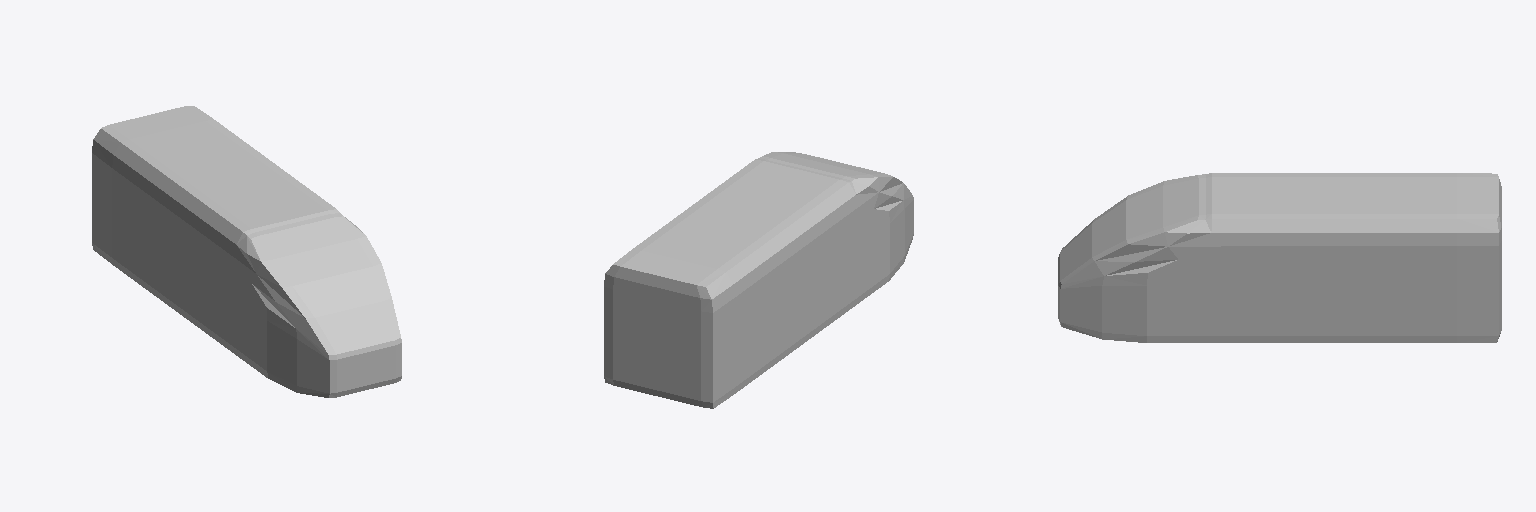
Rendered from train.obj.
3 views of the same model, side by side, from view 1: azimuth 30°, elevation 25°; view 2: azimuth 150°, elevation 25°; view 3: azimuth 270°, elevation 25° (orthographic).
Parts seen in each view (by area): view 1: pCube1; view 2: pCube1; view 3: pCube1.
Part boxes in pixels (x1,y1,x2,y2): pCube1: (92, 106, 401, 397); pCube1: (604, 152, 913, 408); pCube1: (1058, 173, 1501, 342).
Size of the model in its own units: 3.75 by 3.96 by 13.04.